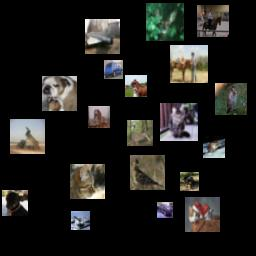airplane: (85, 19, 120, 54), (71, 211, 90, 230)
automobile: (104, 60, 123, 79), (157, 202, 173, 218)
bird: (130, 155, 165, 190), (215, 83, 247, 115), (127, 120, 153, 146)
cat: (160, 103, 198, 141), (70, 164, 105, 199), (185, 197, 220, 232)
deer: (146, 3, 184, 41)
dog: (42, 76, 77, 111), (2, 190, 28, 216), (88, 106, 110, 128), (180, 172, 199, 191)
frog: (203, 136, 225, 158)
truck: (10, 119, 45, 154)
